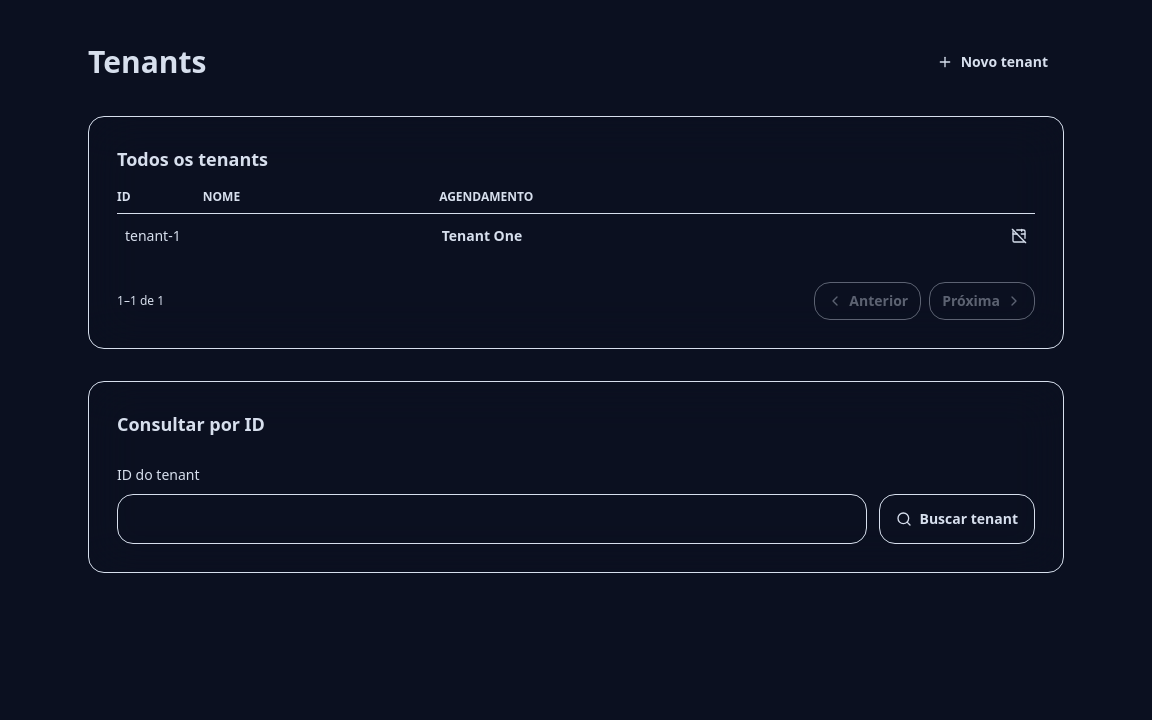
Test: TenantManagement › opens the create form
This screenshot has width=1152, height=720.
Click the button "Novo tenant": point(992, 62) x1=921 y1=40 x2=1064 y2=84
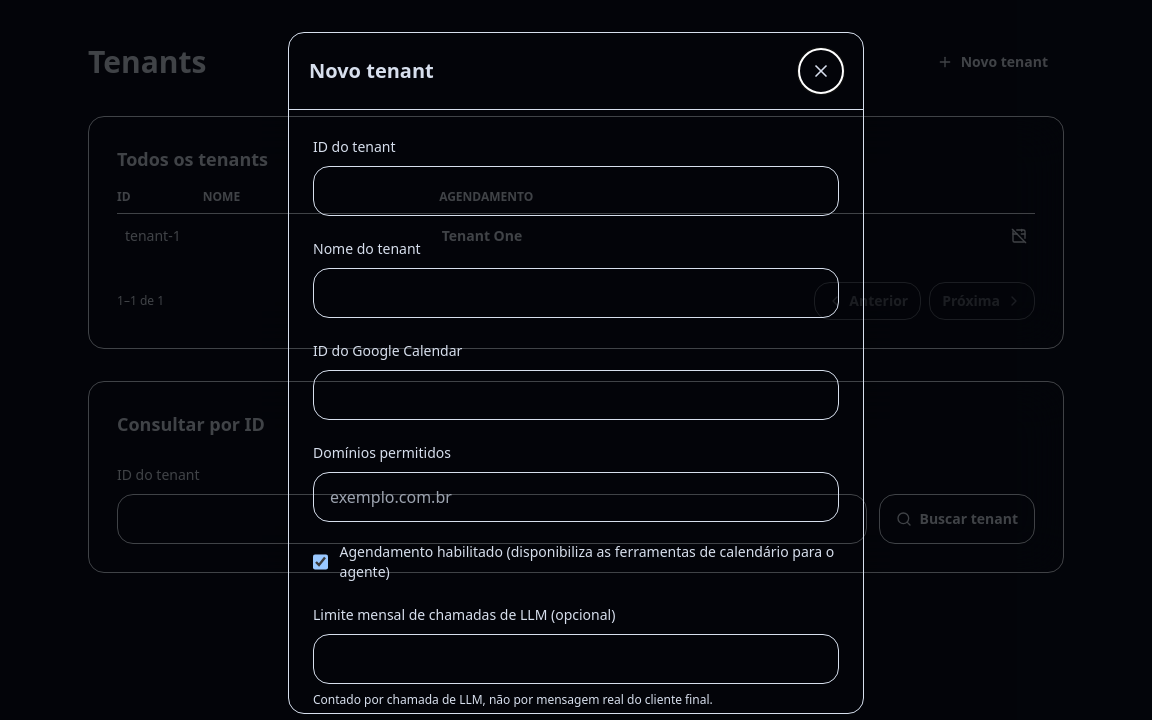
Now the dialog "Novo tenant" is shown, box x1=288 y1=32 x2=864 y2=714
Now the field labelled "Nome do tenant" is shown, box x1=313 y1=268 x2=839 y2=318
